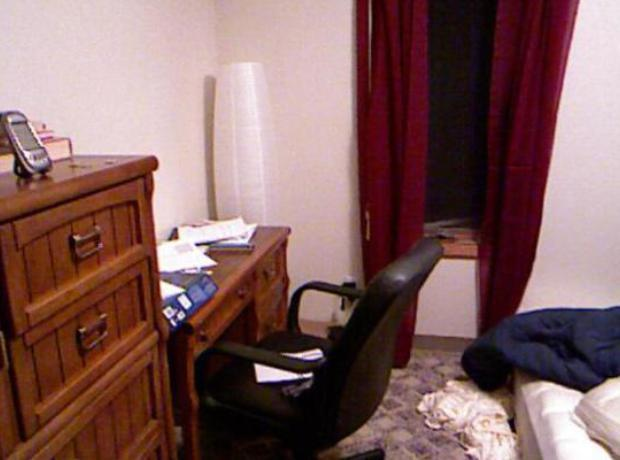Armario: (0, 158, 161, 460)
